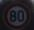Speed Limit -80-: (0, 1, 33, 29)
